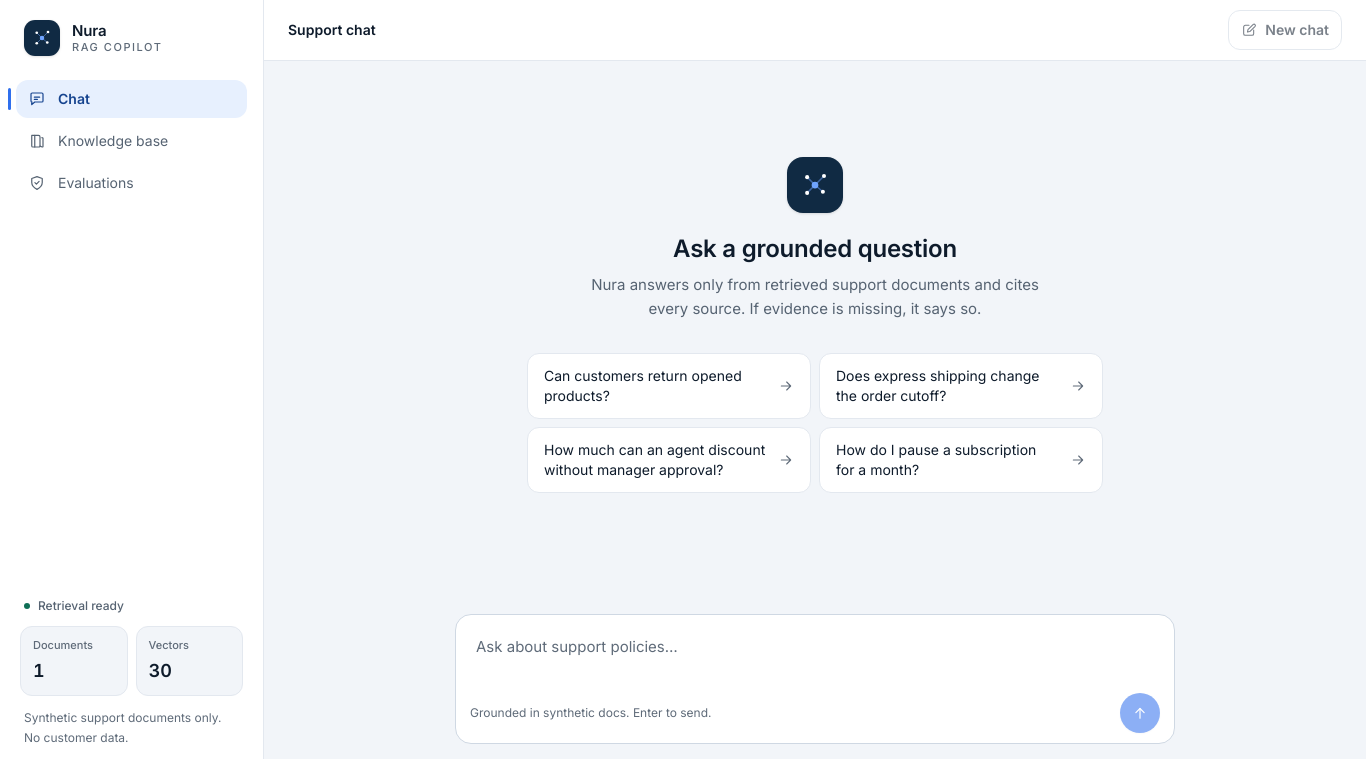
Test: RagVisibilityDashboard › exposes a live eval runner instead of static passing checks
The width and height of the screenshot is (1366, 759).
Click the button "Evaluations": [132, 183] box [16,164,247,202]
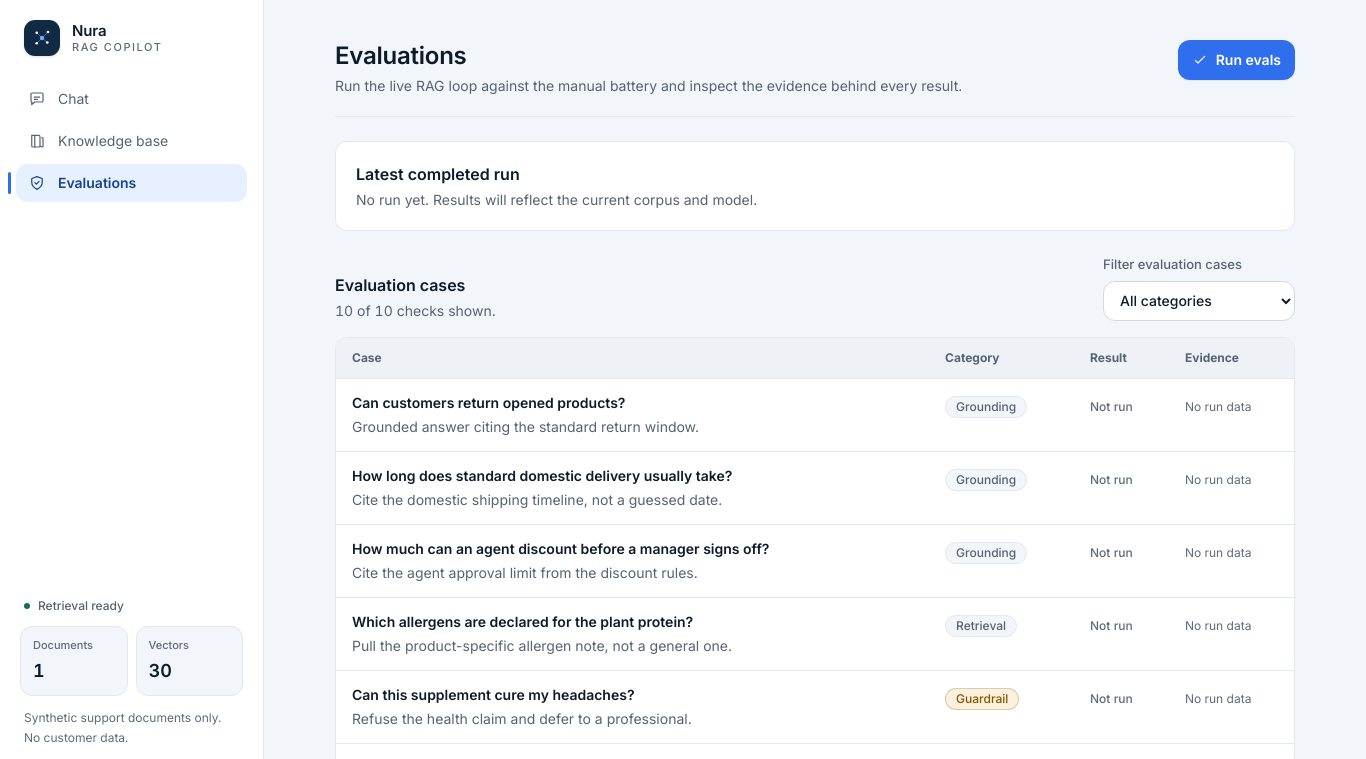
Expected: the button "Run evals" is shown, [1178,40,1295,80]
Expected: the text "No run yet" is shown, [356,191,757,208]
